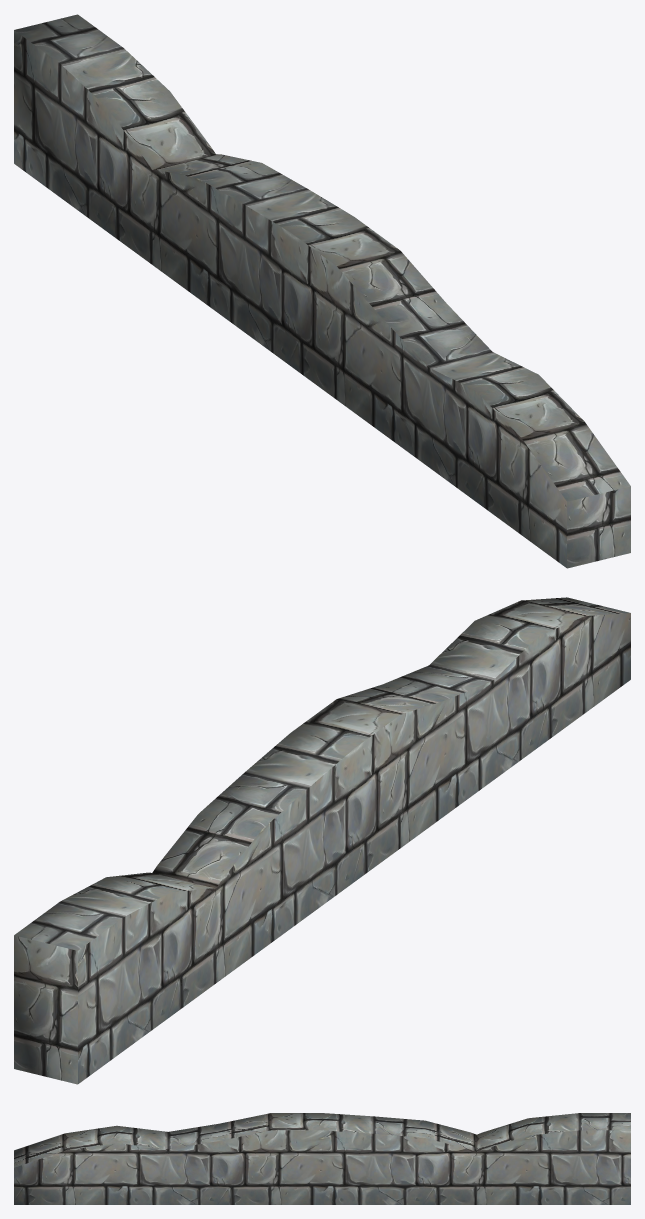
Rendered from Muralla01.FBX.
3 views of the same model, one above another, from view 1: azimuth 30°, elevation 25°; view 2: azimuth 150°, elevation 25°; view 3: azimuth 270°, elevation 25° (orthographic). The views are drawn at different scales.
Visible parts, largest first — view 1: Box001; view 2: Box001; view 3: Box001.
Boxes of the visible parts, box(x1,y1,x2,y2) form: Box001: box(14, 14, 630, 568); Box001: box(14, 597, 630, 1084); Box001: box(14, 1113, 630, 1204).
Bounding box in the file's own units: 1 × 2 × 15.
